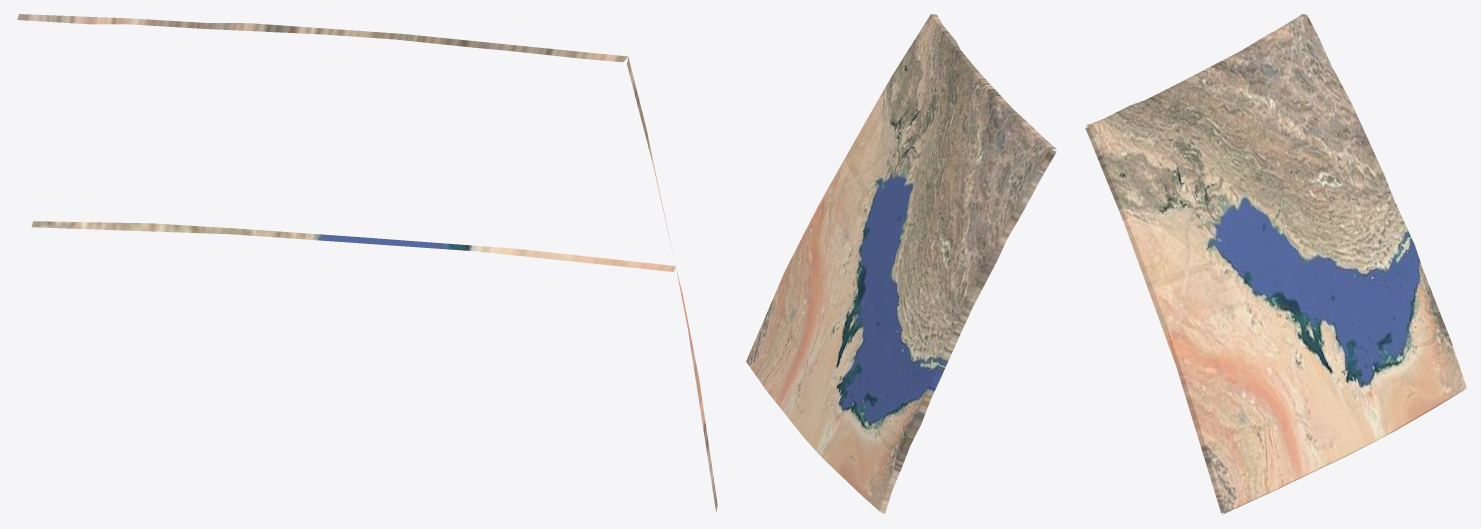
The picture shows the model from 3 angles, left to right: view 1: azimuth 30°, elevation 25°; view 2: azimuth 150°, elevation 25°; view 3: azimuth 270°, elevation 25°; orthographic projection. The views are drawn at different scales.
Bounding box in the file's own units: 1238044 × 1117042 × 1163376.
1 material, 1 textured.
